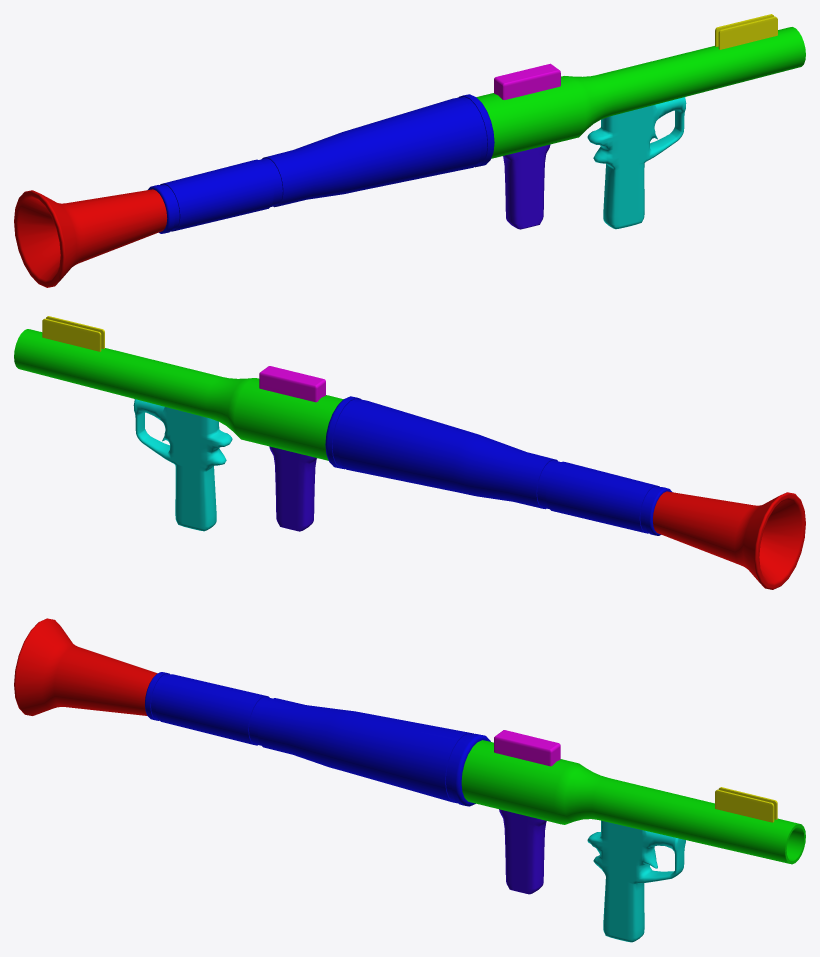
The model's file is Rocket_Launcher.fbx.
The picture shows the model from 3 angles, top to bottom: view 1: azimuth 30°, elevation 25°; view 2: azimuth 150°, elevation 25°; view 3: azimuth 330°, elevation 25°; orthographic projection.
Visible parts, largest first — view 1: Rocket_Launcher; view 2: Rocket_Launcher; view 3: Rocket_Launcher.
Boxes of the visible parts, <box> form: Rocket_Launcher: <box>14,14,805,287</box>; Rocket_Launcher: <box>14,316,805,589</box>; Rocket_Launcher: <box>14,618,805,942</box>.
Size of the model in its own units: 7.78 by 1.71 by 0.8909.
